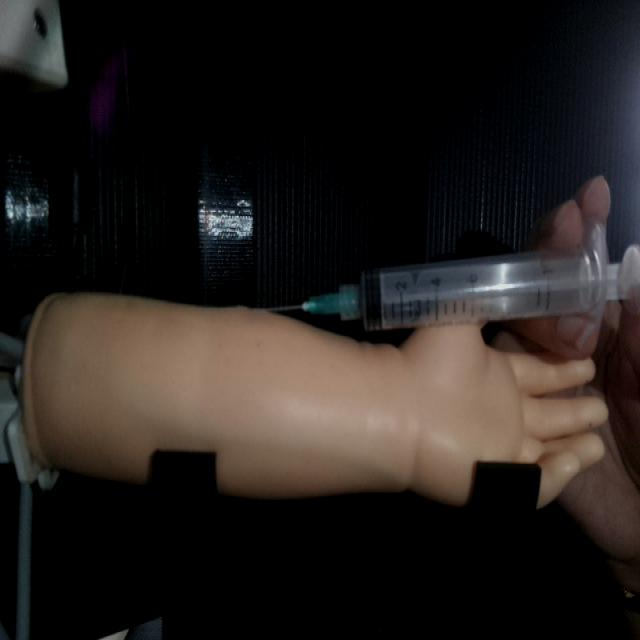Below 15 degrees: (262, 225, 638, 334)
